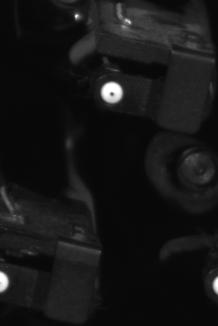fiber: (98, 78, 124, 108), (1, 267, 15, 296)
